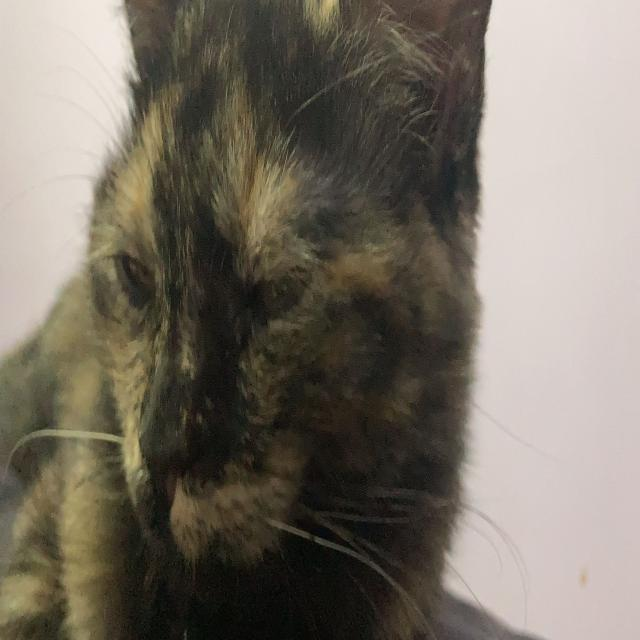authorized: (1, 1, 541, 638)
